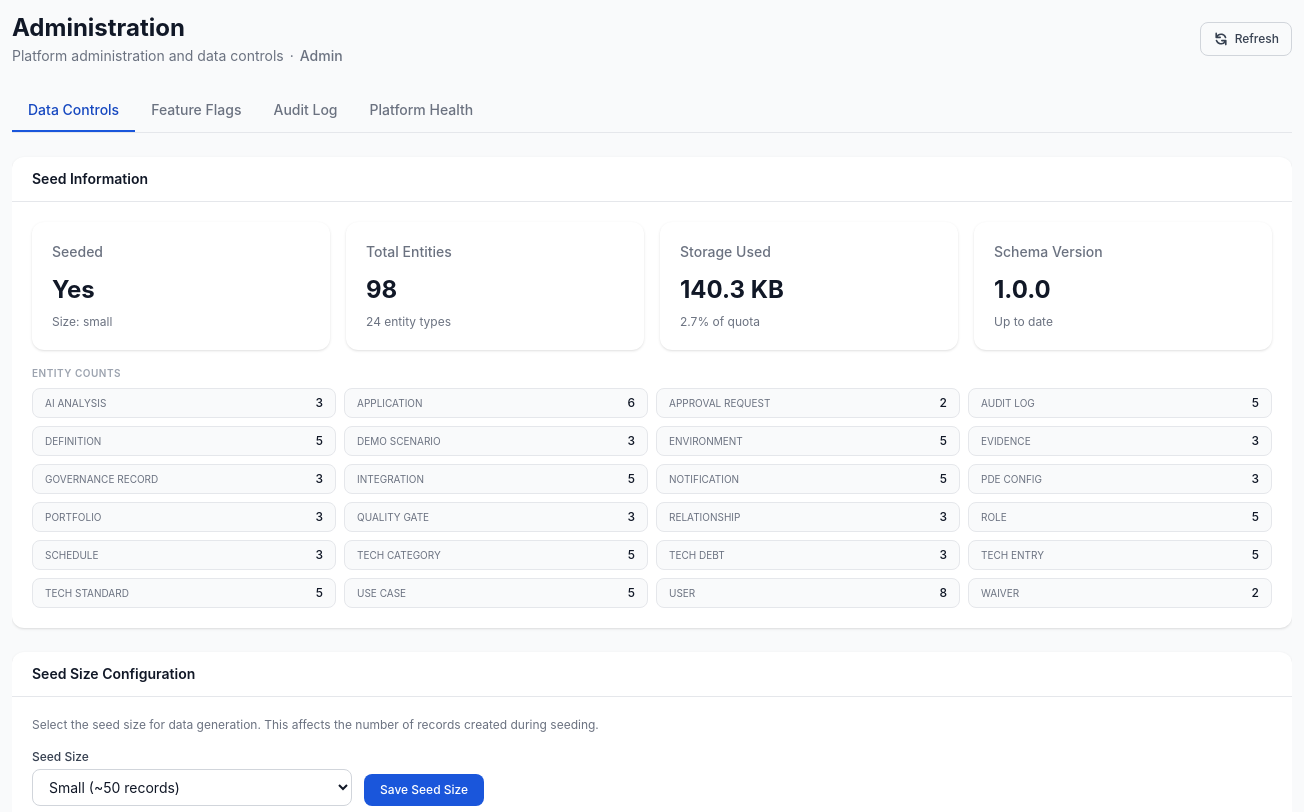
Test: AdministrationPage › Audit Log tab › renders audit log entries table when tab is selected
Click the tab "Audit Log" at (306, 111), box x1=258 y1=90 x2=354 y2=132
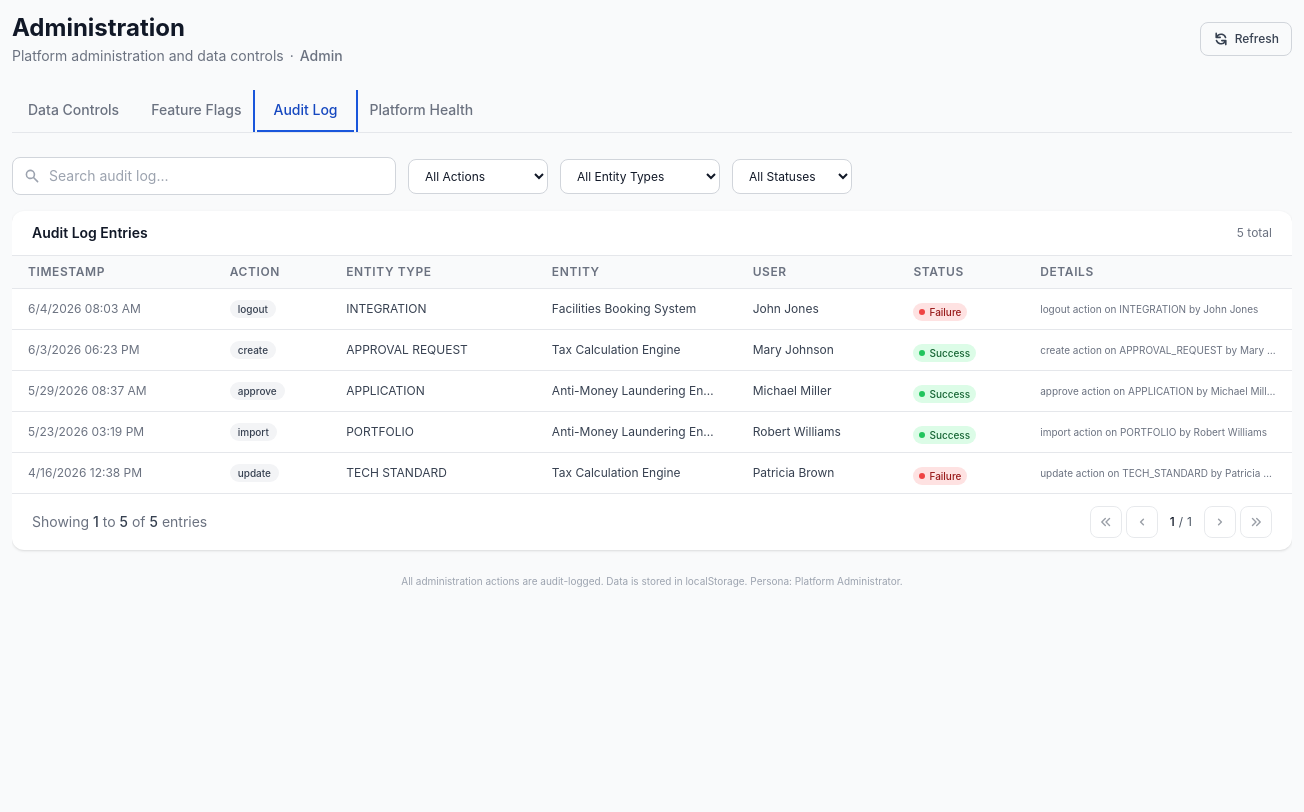
Check: the heading "Audit Log Entries" is shown, box x1=32 y1=223 x2=148 y2=243
